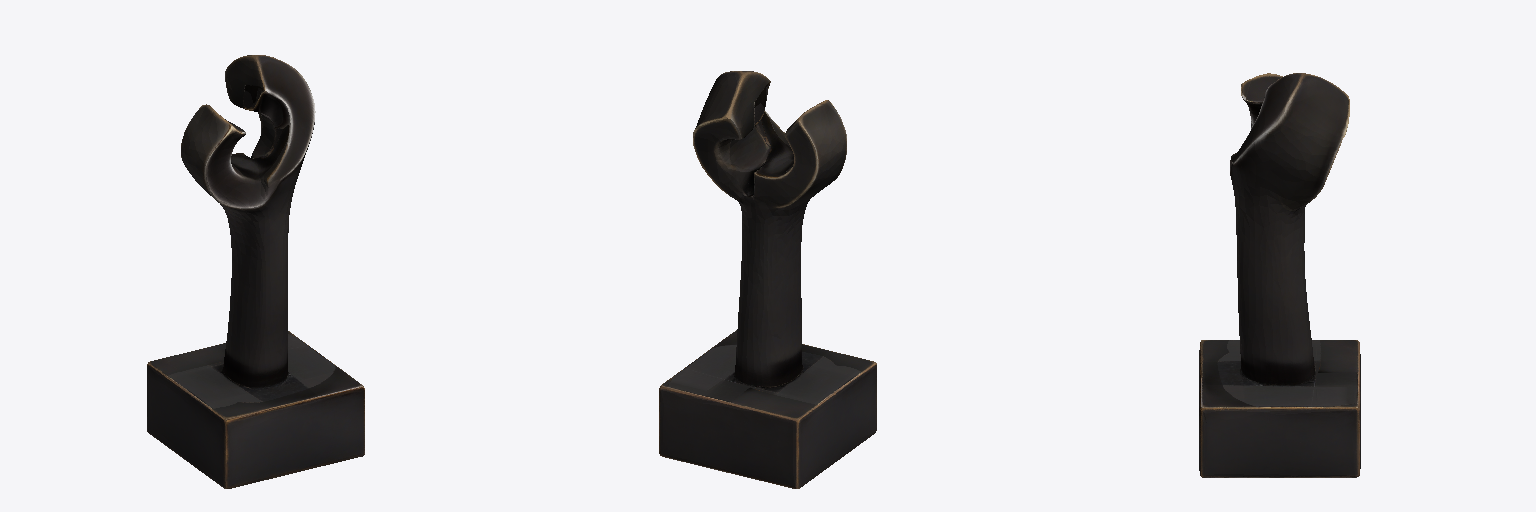
The picture shows the model from 3 angles: view 1: azimuth 30°, elevation 25°; view 2: azimuth 150°, elevation 25°; view 3: azimuth 270°, elevation 25°; orthographic projection.
Visible parts, largest first — view 1: estatuanueva10; view 2: estatuanueva10; view 3: estatuanueva10.
Part boxes in pixels (left/top/right/bottom): estatuanueva10: left=147, top=55, right=364, bottom=488; estatuanueva10: left=659, top=71, right=876, bottom=488; estatuanueva10: left=1199, top=73, right=1360, bottom=477.
Bounding box in the file's own units: 3.59 × 9.15 × 3.55.
Materials: 1 (1 with a texture image).